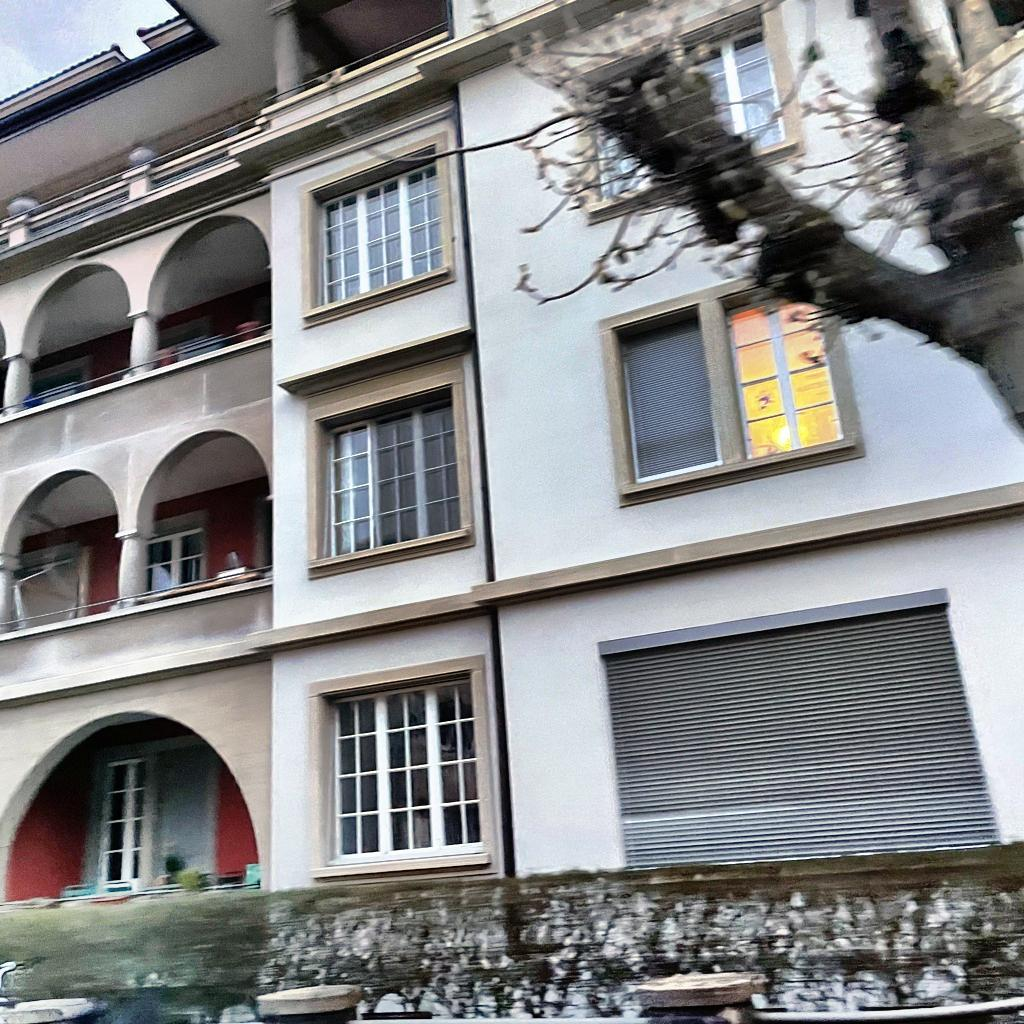balcony-fence: (0, 22, 452, 249)
vegetation: (472, 0, 1024, 444)
window: (606, 605, 1000, 864), (334, 682, 481, 859), (327, 403, 457, 558), (727, 300, 843, 460), (323, 162, 441, 308), (623, 324, 723, 482), (695, 25, 783, 146), (98, 757, 150, 883), (150, 531, 202, 594)
